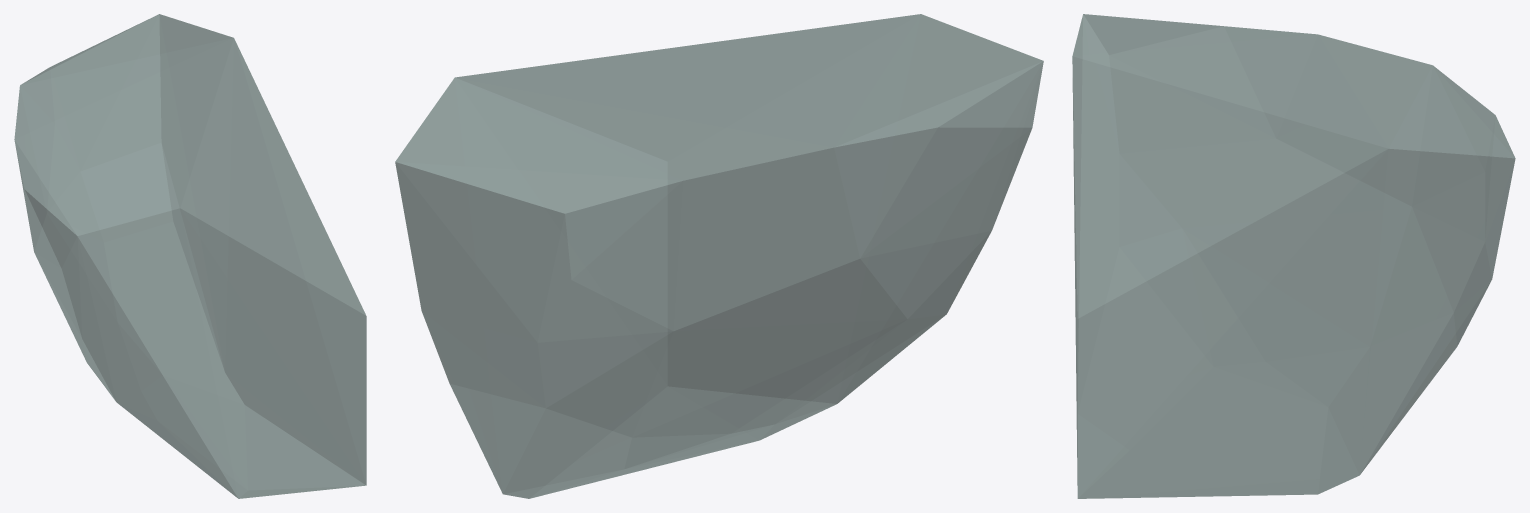
3 renders of one model, left to right at view 1: azimuth 30°, elevation 25°; view 2: azimuth 150°, elevation 25°; view 3: azimuth 270°, elevation 25°, orthographic. The views are drawn at different scales.
Visible parts, largest first — view 1: Shape_IndexedFaceSet.010_Shape_IndexedFaceSet.7496; view 2: Shape_IndexedFaceSet.010_Shape_IndexedFaceSet.7496; view 3: Shape_IndexedFaceSet.010_Shape_IndexedFaceSet.7496.
Boxes of the visible parts, <box> form: Shape_IndexedFaceSet.010_Shape_IndexedFaceSet.7496: <box>14,14,366,498</box>; Shape_IndexedFaceSet.010_Shape_IndexedFaceSet.7496: <box>395,14,1043,498</box>; Shape_IndexedFaceSet.010_Shape_IndexedFaceSet.7496: <box>1072,14,1515,498</box>.
Size of the model in its own units: 0.2633 by 0.2788 by 0.3133.
